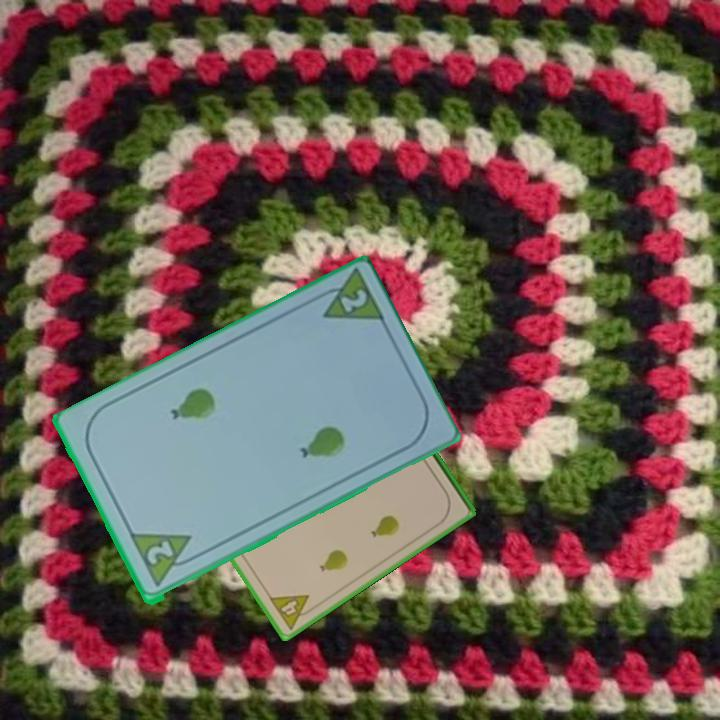2p: (307, 268, 388, 328), (127, 529, 203, 591)
4p: (265, 591, 319, 633)
